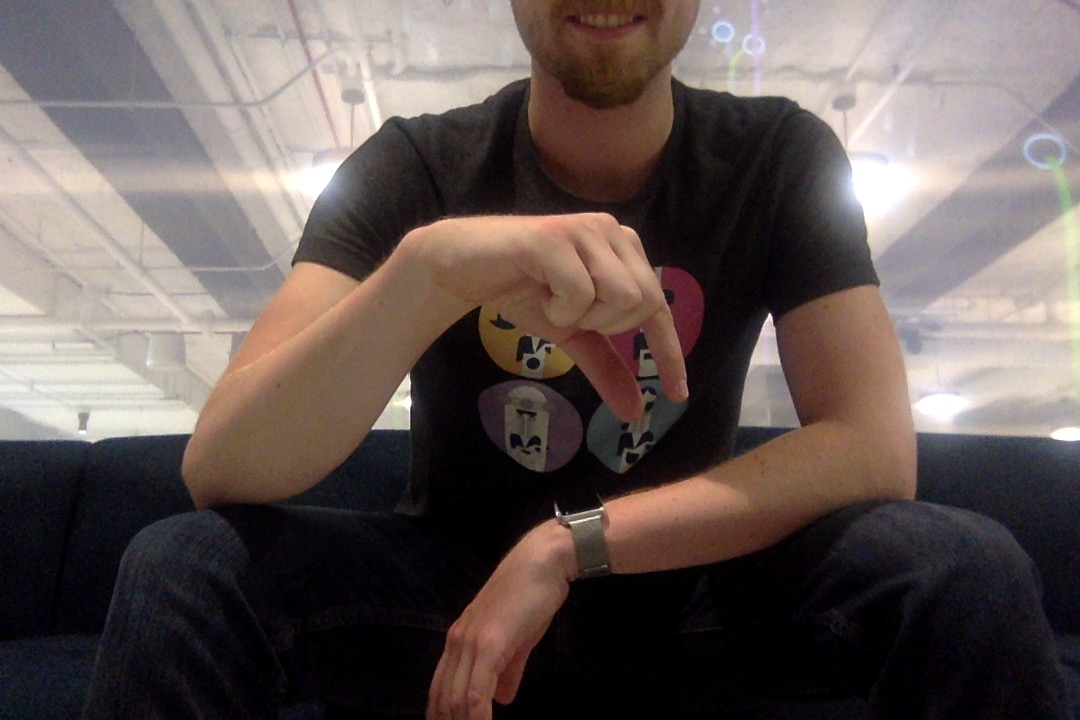q: (406, 209, 696, 428)
